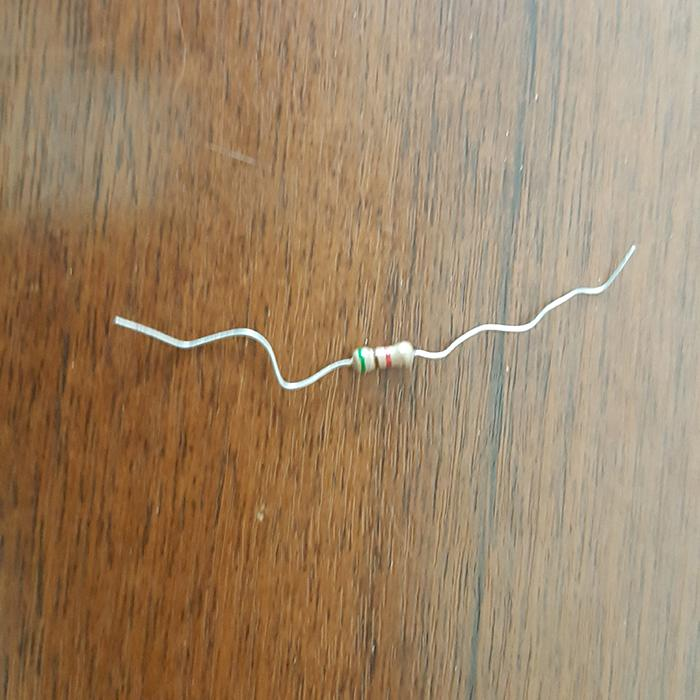resistor: (350, 341, 415, 374)
